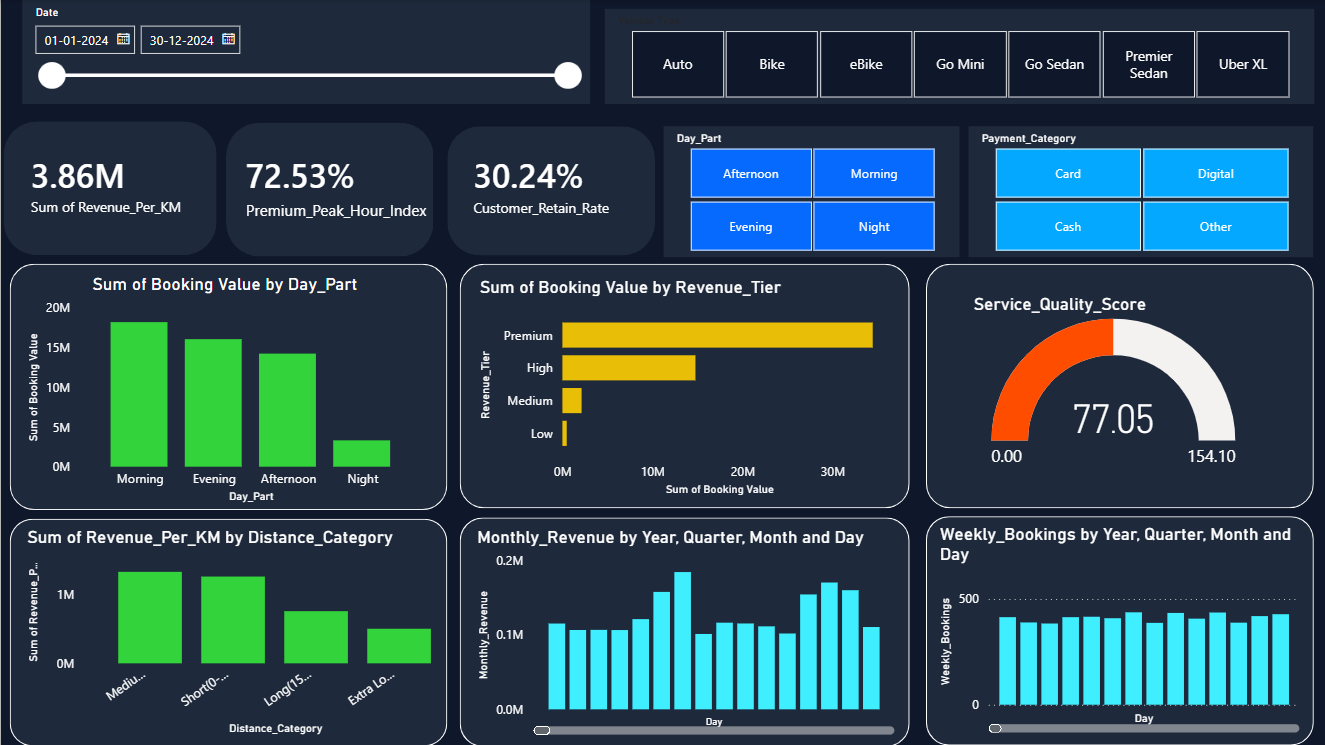

What the dashboard file says about the page in this screenshot:
{"tool":"powerbi","page":{"name":"Summary","canvas":[1280,720],"ordinal":6},"visuals":[{"type":"shape","box":[430.4,122.3,200.5,124.7],"z":0},{"type":"shape","box":[892.7,254.3,374.2,236],"z":1000},{"type":"gauge","fields":{"Y":["rideBookings.Service_Quality_Score"]},"box":[934.2,283.7,280,178.5],"z":2000},{"type":"cardVisual","fields":{"Data":["rideBookings.Customer_Retain_Rate"]},"box":[426.8,117.4,254.3,122.3],"z":3000},{"type":"shape","box":[2.8,116.9,205.9,129.4],"z":4000},{"type":"cardVisual","fields":{"Data":["Sum(rideBookings.Revenue_Per_KM)"]},"box":[0,117.4,221.3,121.1],"z":5000},{"type":"shape","box":[217,118.3,200.3,129.4],"z":6000},{"type":"cardVisual","fields":{"Data":["rideBookings.Premium_Peak_Hour_Index"]},"box":[207.9,119.8,255.6,121.1],"z":7000},{"type":"shape","box":[8.4,254.6,422.3,237.7],"z":8000},{"type":"clusteredColumnChart","fields":{"Category":["rideBookings.Day_Part"],"Y":["Sum(rideBookings.Booking Value)"]},"box":[20.8,264.1,391.3,226.2],"z":9000},{"type":"shape","box":[442.7,254.3,434.1,236],"z":10000},{"type":"barChart","fields":{"Y":["Sum(rideBookings.Booking Value)"],"Category":["rideBookings.Revenue_Tier"]},"box":[457.3,266.6,406,216.4],"z":11000},{"type":"shape","box":[8.4,500.7,422.3,219.6],"z":12000},{"type":"clusteredColumnChart","fields":{"Y":["Sum(rideBookings.Revenue_Per_KM)"],"Category":["rideBookings.Distance_Category"]},"box":[20.5,507.9,434.3,206.3],"z":13000},{"type":"shape","box":[442.7,498.9,434.1,221.3],"z":14000},{"type":"lineStackedColumnComboChart","fields":{"Y":["rideBookings.Monthly_Revenue"],"Category":["rideBookings.Date.Variation.Date Hierarchy.Year","rideBookings.Date.Variation.Date Hierarchy.Quarter","rideBookings.Date.Variation.Date Hierarchy.Month","rideBookings.Date.Variation.Date Hierarchy.Day"]},"box":[454.8,507.9,412.6,206.3],"z":15000},{"type":"shape","box":[892.7,497.7,374.2,221.3],"z":15500},{"type":"lineClusteredColumnComboChart","fields":{"Y":["rideBookings.Weekly_Bookings"],"Category":["rideBookings.Date.Variation.Date Hierarchy.Year","rideBookings.Date.Variation.Date Hierarchy.Quarter","rideBookings.Date.Variation.Date Hierarchy.Month","rideBookings.Date.Variation.Date Hierarchy.Day"]},"box":[901.2,505,357.1,206.7],"z":16000},{"type":"slicer","fields":{"Values":["rideBookings.Date"]},"box":[178.5,0,390.1,100.3],"z":17000},{"type":"slicer","fields":{"Values":["rideBookings.Vehicle Type"]},"box":[582.5,8.5,684.4,92.2],"z":18000},{"type":"slicer","fields":{"Values":["rideBookings.Payment_Category"]},"box":[933.8,121.9,333,126.7],"z":19000},{"type":"slicer","fields":{"Values":["rideBookings.Day_Part"]},"box":[639.4,121.9,285.9,126.7],"z":20000},{"type":"image","box":[0,0,160.5,100.1],"z":21000}]}

Visuals, with their boxes in screenshot pixels (x1, y1, x2, y2), scaled from the page's 1280x720 canvas onto the 1325x745 screenshot:
shape: bbox=(446, 127, 653, 256)
shape: bbox=(924, 263, 1311, 507)
gauge - rideBookings.Service_Quality_Score: bbox=(967, 294, 1257, 478)
cardVisual - rideBookings.Customer_Retain_Rate: bbox=(442, 121, 705, 248)
shape: bbox=(3, 121, 216, 255)
cardVisual - Sum(rideBookings.Revenue_Per_KM): bbox=(0, 121, 229, 247)
shape: bbox=(225, 122, 432, 256)
cardVisual - rideBookings.Premium_Peak_Hour_Index: bbox=(215, 124, 480, 249)
shape: bbox=(9, 263, 446, 509)
clusteredColumnChart - rideBookings.Day_Part x Sum(rideBookings.Booking Value): bbox=(22, 273, 427, 507)
shape: bbox=(458, 263, 908, 507)
barChart - Sum(rideBookings.Booking Value) x rideBookings.Revenue_Tier: bbox=(473, 276, 894, 500)
shape: bbox=(9, 518, 446, 744)
clusteredColumnChart - Sum(rideBookings.Revenue_Per_KM) x rideBookings.Distance_Category: bbox=(21, 526, 471, 739)
shape: bbox=(458, 516, 908, 744)
lineStackedColumnComboChart - rideBookings.Monthly_Revenue x rideBookings.Date.Variation.Date Hierarchy.Year: bbox=(471, 526, 898, 739)
shape: bbox=(924, 515, 1311, 744)
lineClusteredColumnComboChart - rideBookings.Weekly_Bookings x rideBookings.Date.Variation.Date Hierarchy.Year: bbox=(933, 523, 1303, 736)
slicer - rideBookings.Date: bbox=(185, 0, 589, 104)
slicer - rideBookings.Vehicle Type: bbox=(603, 9, 1311, 104)
slicer - rideBookings.Payment_Category: bbox=(967, 126, 1311, 257)
slicer - rideBookings.Day_Part: bbox=(662, 126, 958, 257)
image: bbox=(0, 0, 166, 104)
